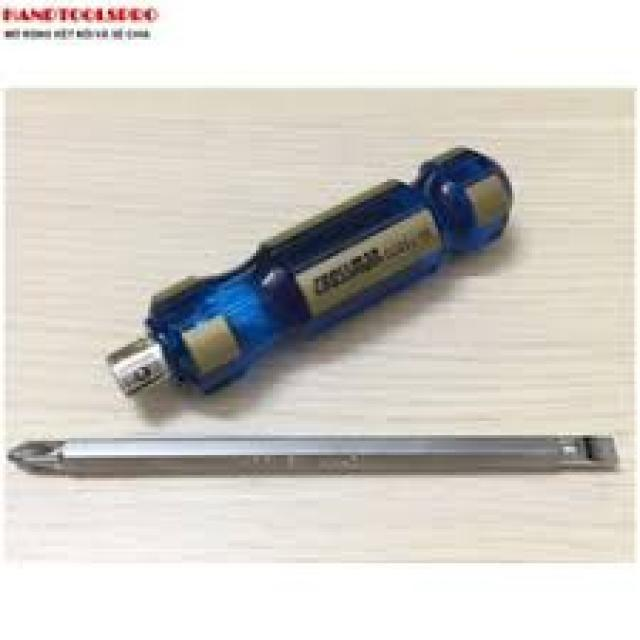screwdriver: (96, 282, 608, 352)
